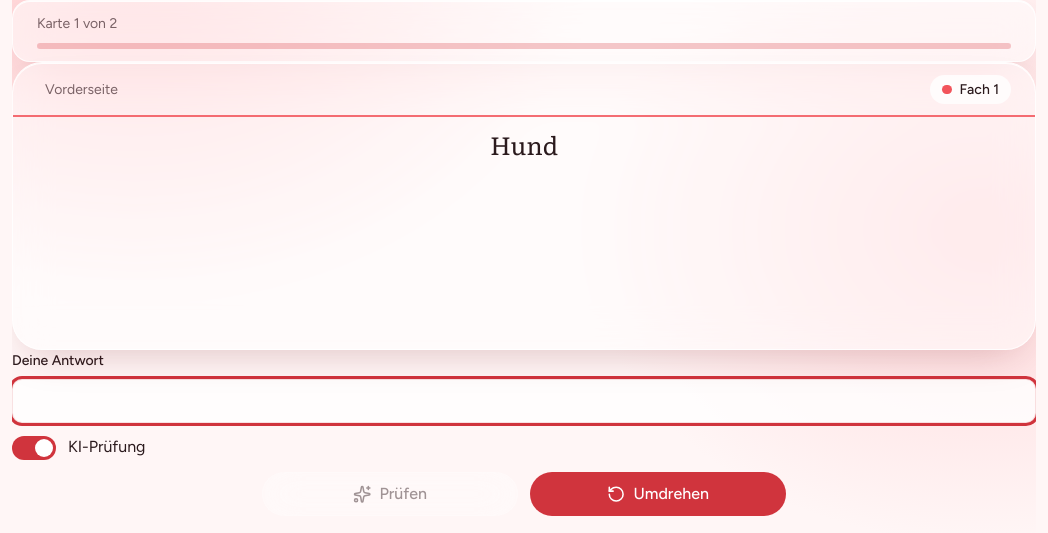
Test case: LearnSession with AI check › can be switched off in the session and remembers it
What coordinates should you click on to do the following:
click the switch labelled "KI-Prüfung"
I would click on:
 (79, 448)
Its box is x1=12 y1=435 x2=146 y2=460.
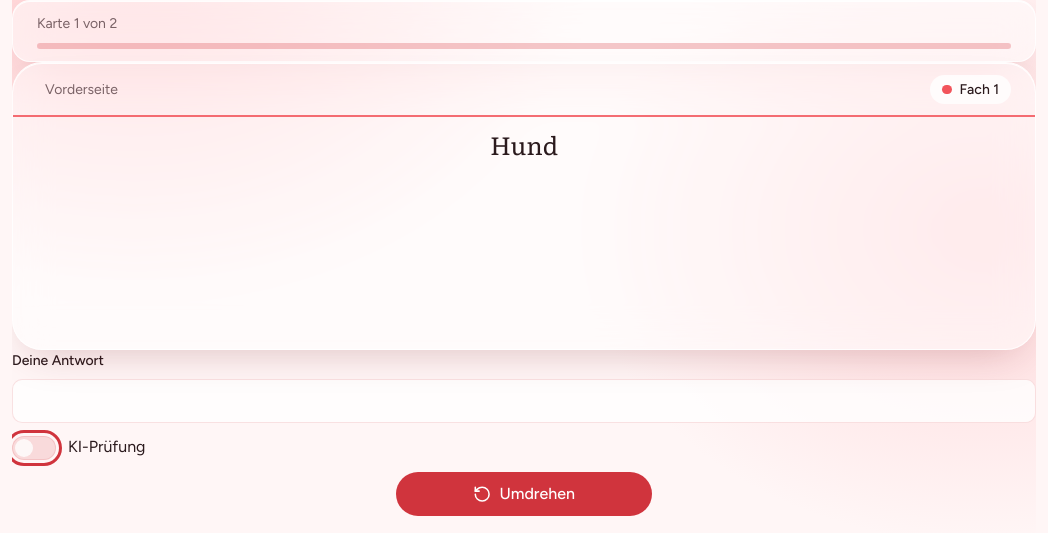
Result: the button "Prüfen" is gone
